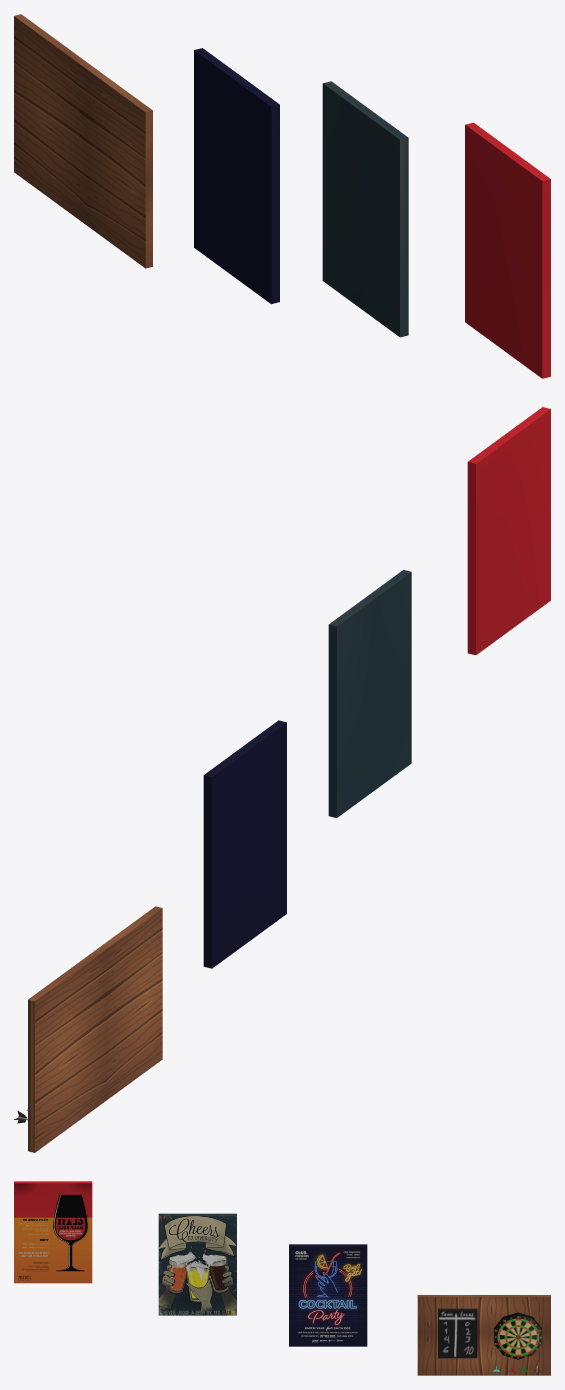
File: Right5.fbx
The picture shows the model from 3 angles, top to bottom: view 1: azimuth 30°, elevation 25°; view 2: azimuth 150°, elevation 25°; view 3: azimuth 270°, elevation 25°; orthographic projection. The views are drawn at different scales.
Parts seen in each view (by area): view 1: Right5; view 2: Right5; view 3: Right5.
Part boxes in pixels (x1,y1,x2,y2): Right5: [14, 14, 550, 378]; Right5: [14, 407, 550, 1152]; Right5: [14, 1181, 550, 1375].
Bounding box in the file's own units: 259 × 7100 × 2805.
